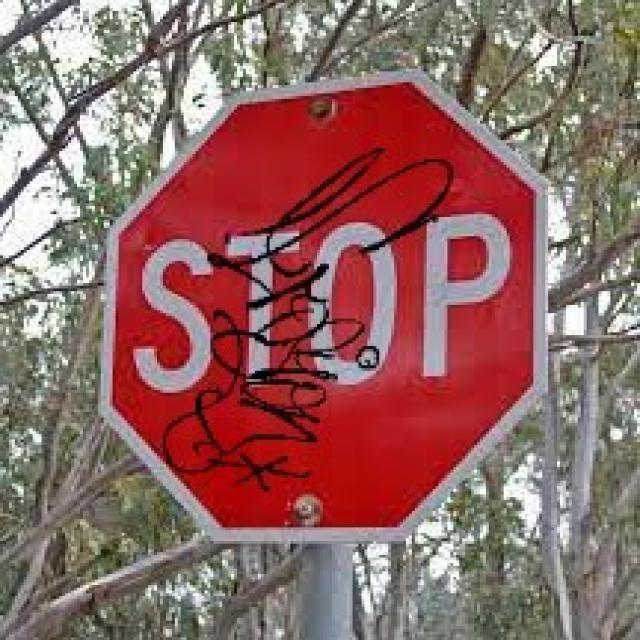Stop-Sign: (118, 102, 504, 526)
